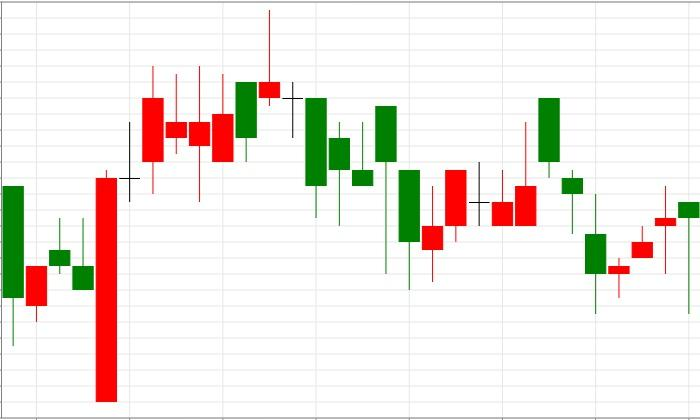shooting_star_fall: (95, 10, 281, 403)
three_black_crows_fall: (421, 97, 607, 314)
